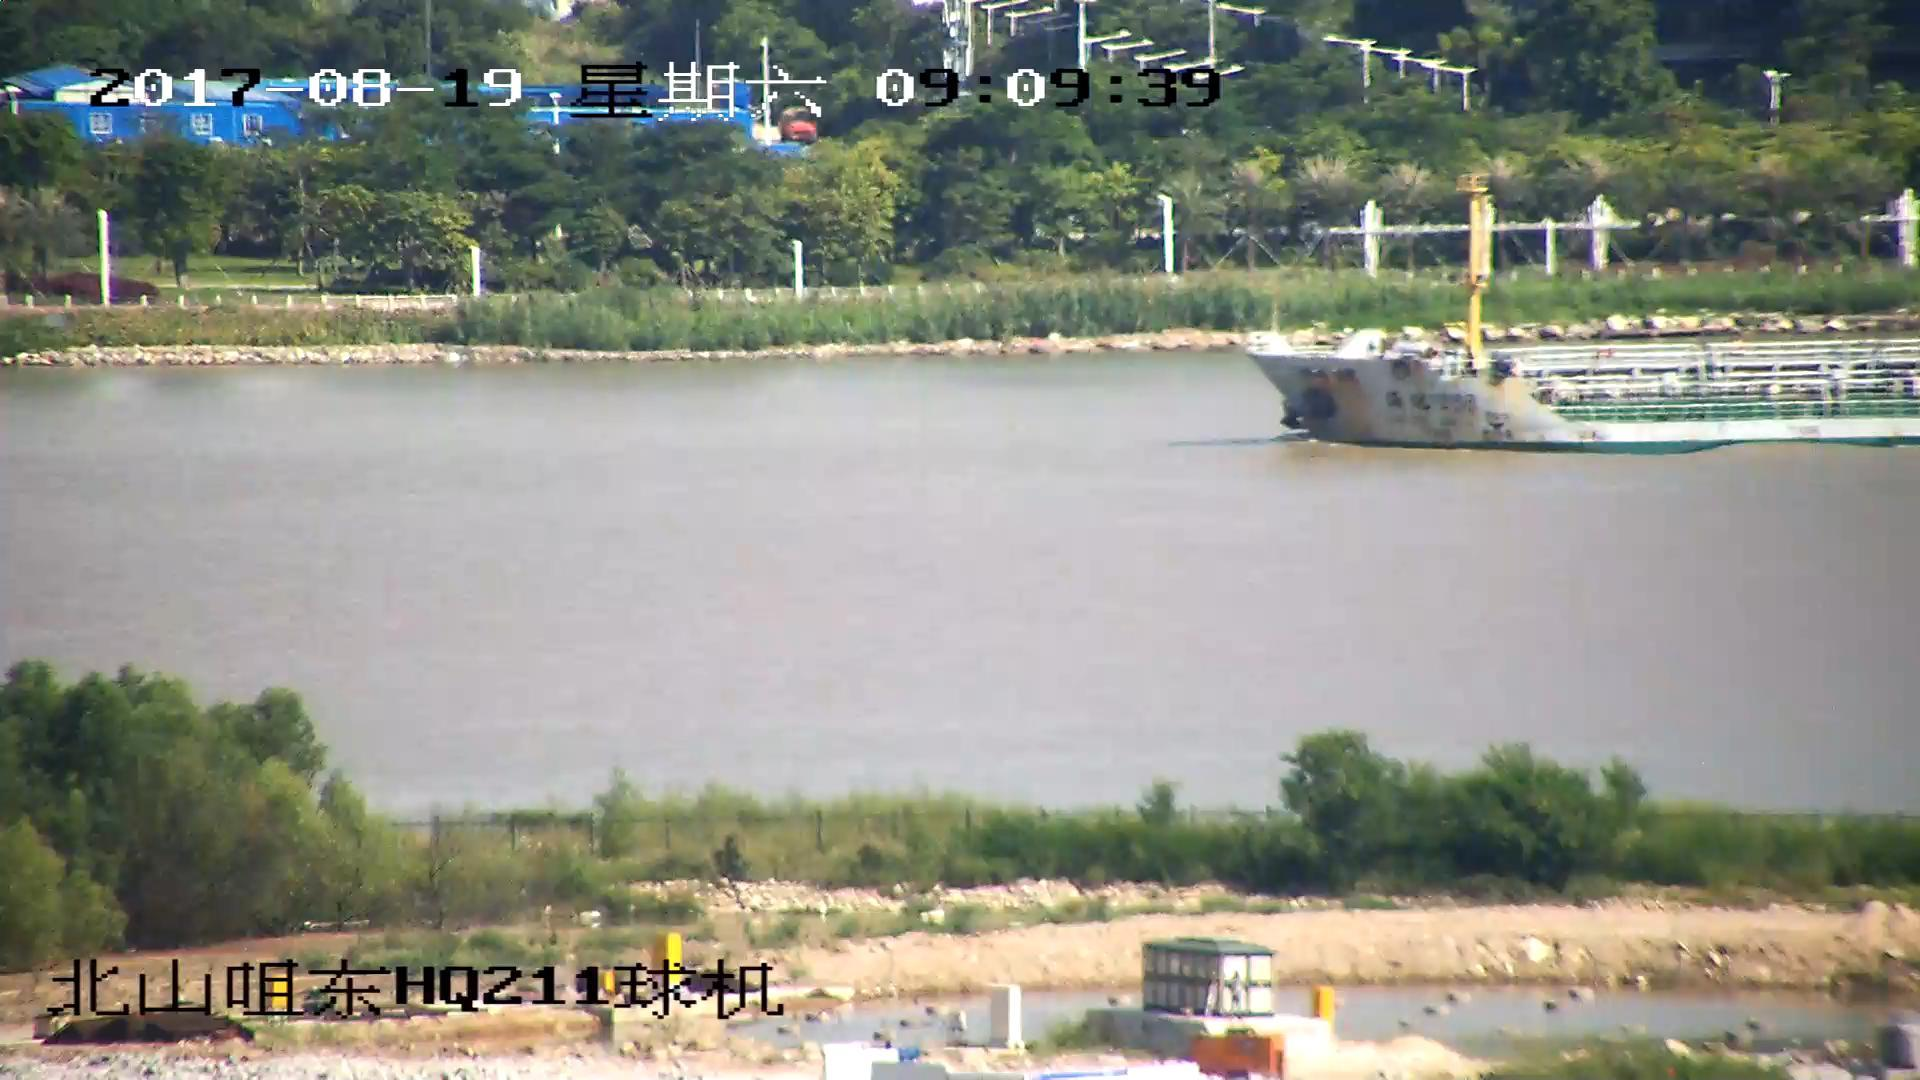Ship: (1251, 328, 1920, 448)
